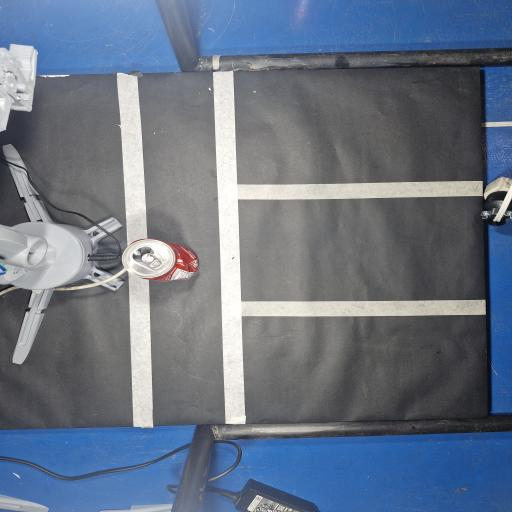lata_defectuoso: (123, 239, 198, 282)
